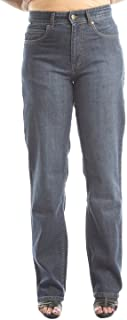jeans: (18, 5, 127, 299)
